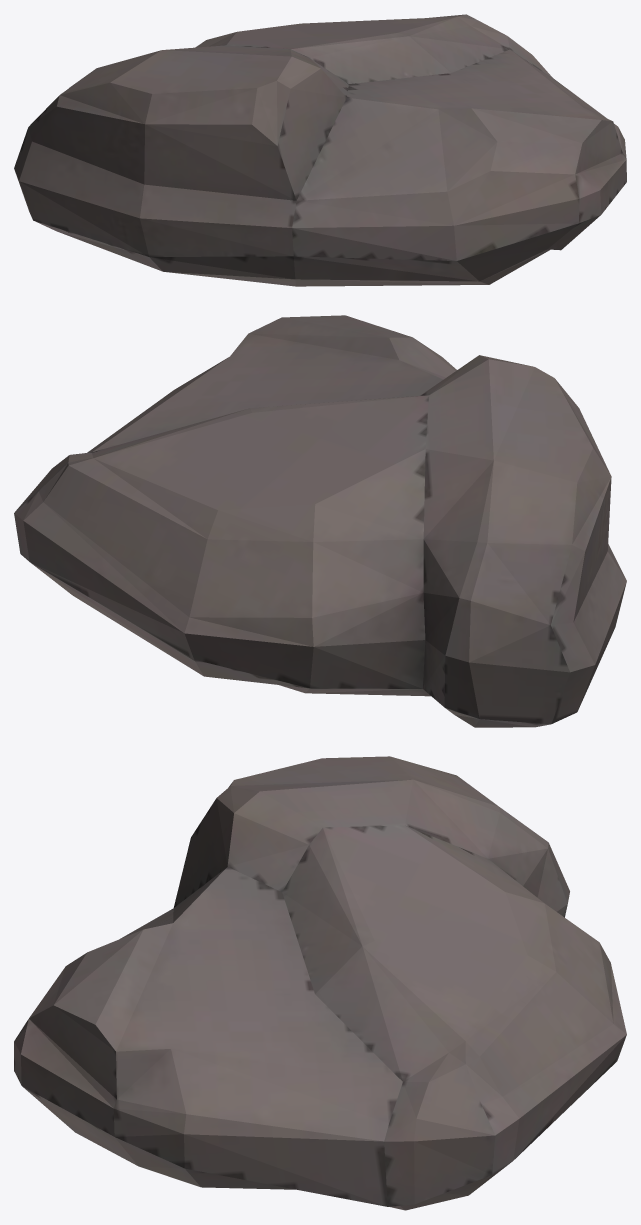
The picture shows the model from 3 angles, top to bottom: view 1: azimuth 30°, elevation 25°; view 2: azimuth 150°, elevation 25°; view 3: azimuth 270°, elevation 25°; orthographic projection. The views are drawn at different scales.
Visible parts, largest first — view 1: body0_model0_lod0_mesh0; view 2: body0_model0_lod0_mesh0; view 3: body0_model0_lod0_mesh0.
Boxes of the visible parts, bbox=[...] form: body0_model0_lod0_mesh0: bbox=[14, 14, 626, 286]; body0_model0_lod0_mesh0: bbox=[14, 315, 626, 727]; body0_model0_lod0_mesh0: bbox=[14, 756, 626, 1210].
Bounding box in the file's own units: 80.7 × 35.12 × 71.19.
Materials: 1 (1 with a texture image).
